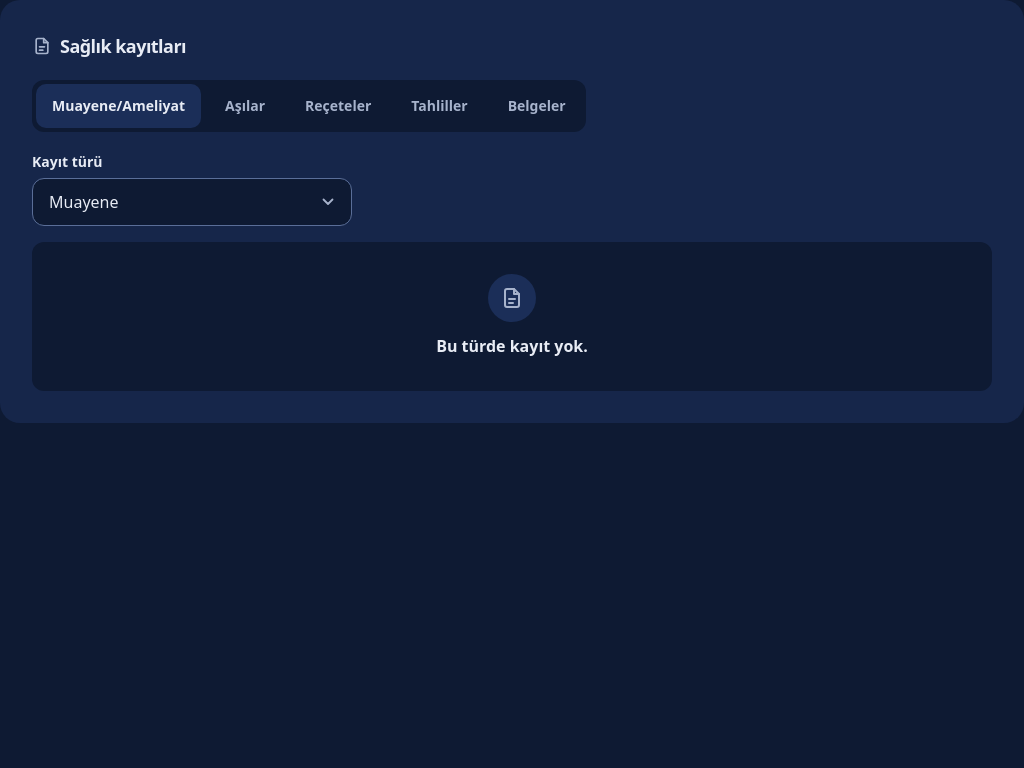
Test: Tahlil açıklaması › bozuk kayıt kimliği hatasını anlaşılır bir cümleyle gösterir
Click the tab "Tahliller": (440, 106) [395,84,484,128]
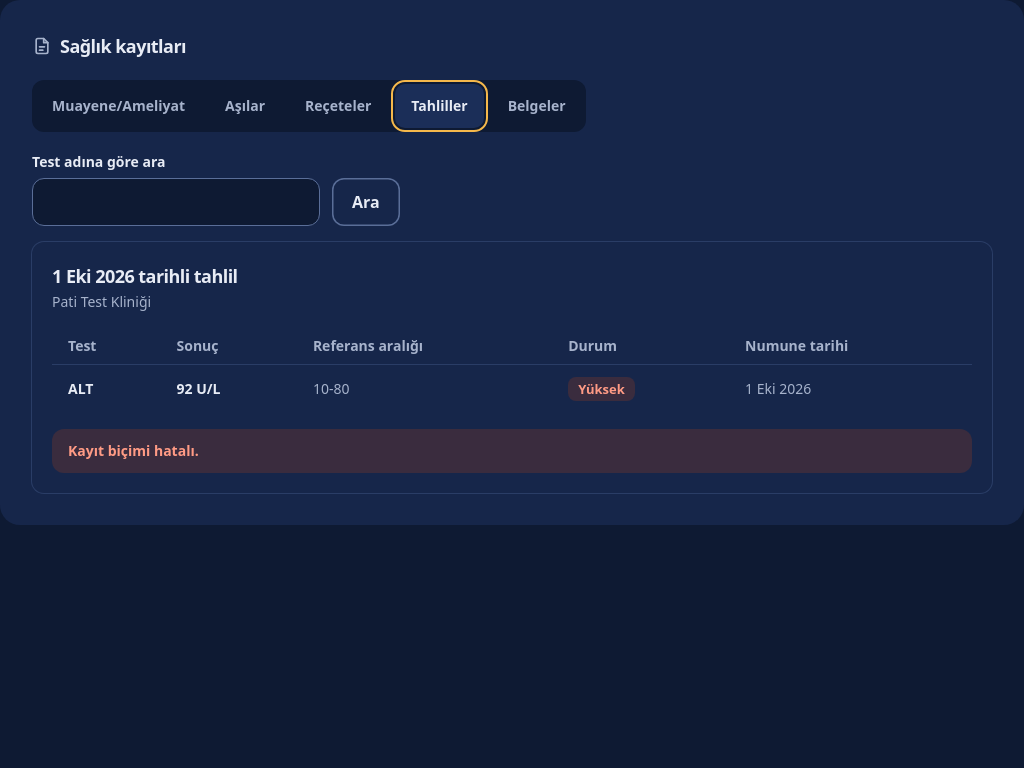
Check: the message reads "Kayıt biçimi hatalı.", box [68,441,199,460]
